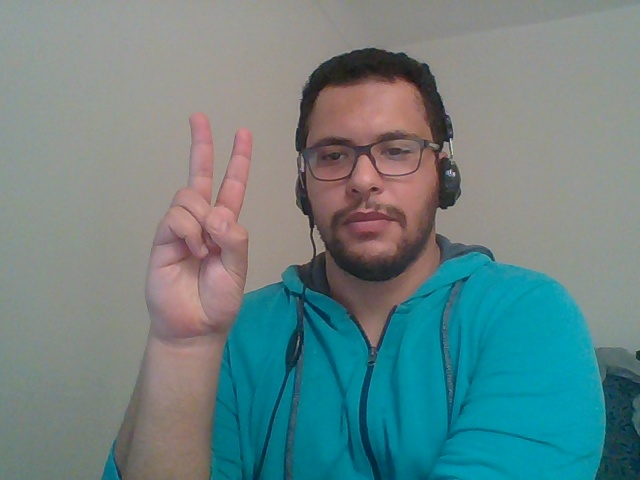vectory: (108, 94, 283, 372)
